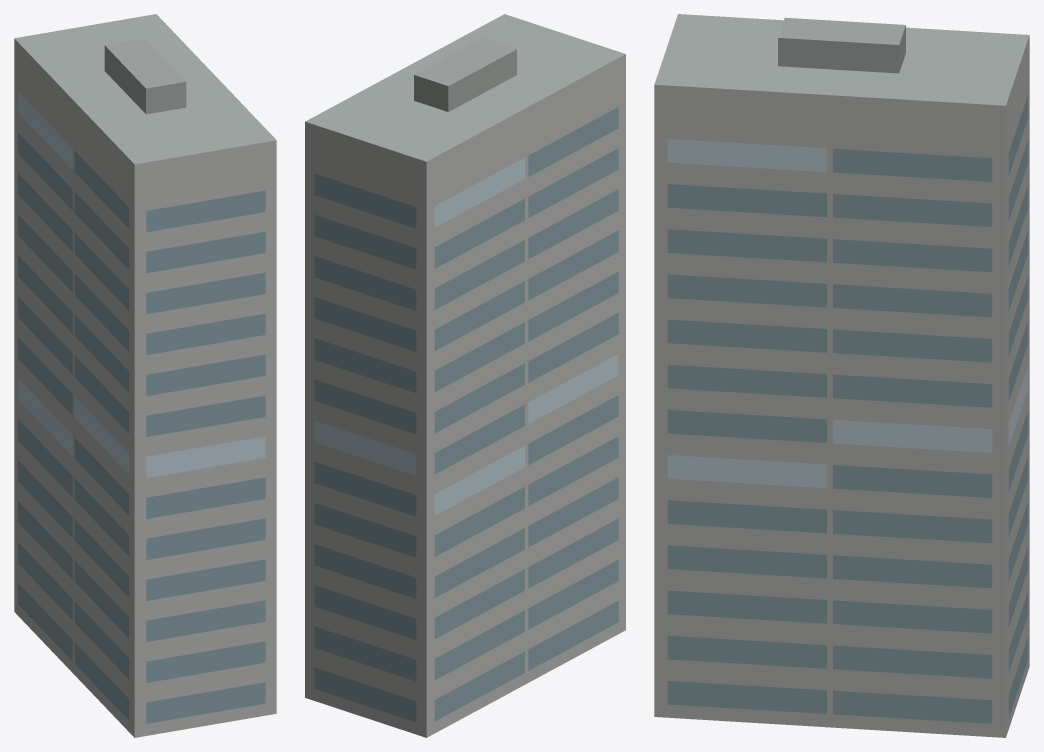
The model's file is fallback-olympic-athletes-village-321.glb.
3 views of the same model, side by side, from view 1: azimuth 30°, elevation 25°; view 2: azimuth 150°, elevation 25°; view 3: azimuth 270°, elevation 25° (orthographic). The views are drawn at different scales.
Parts seen in each view (by area): view 1: fallback-olympic-athletes-village-321; view 2: fallback-olympic-athletes-village-321; view 3: fallback-olympic-athletes-village-321.
Part boxes in pixels (<box>): fallback-olympic-athletes-village-321: <box>14,14,276,737</box>; fallback-olympic-athletes-village-321: <box>305,14,625,737</box>; fallback-olympic-athletes-village-321: <box>654,14,1029,737</box>.
Bounding box in the file's own units: 13.29 × 44.62 × 22.96.
